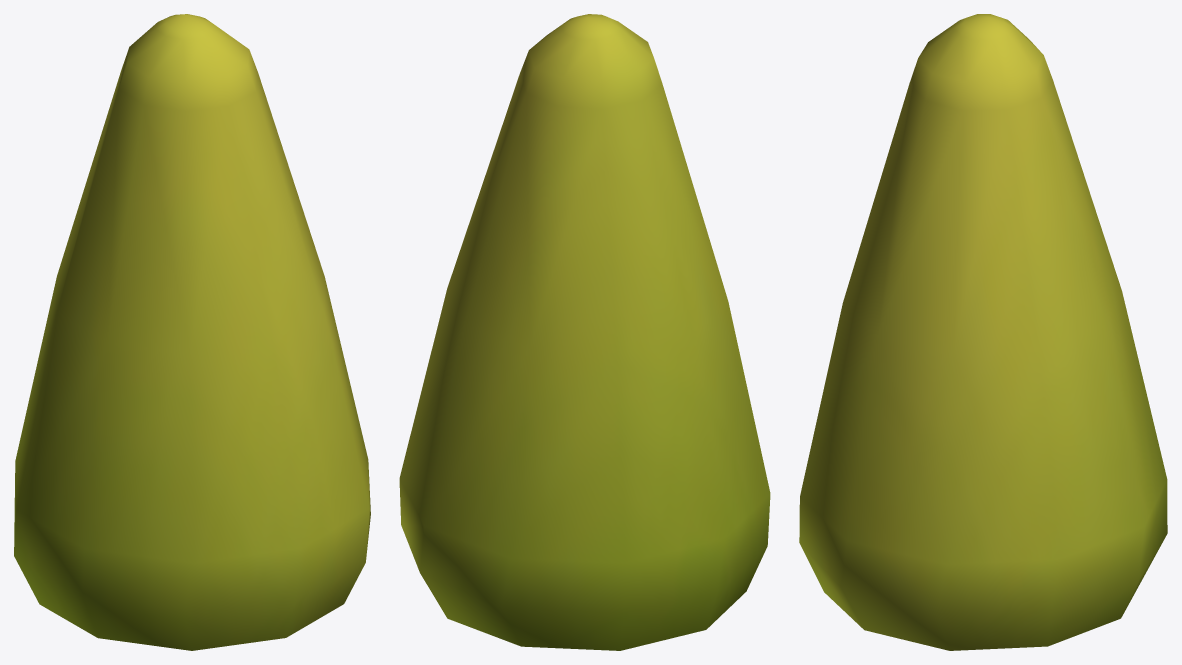
Rendered from SM_Fir_02.fbx.
3 renders of one model, left to right at view 1: azimuth 30°, elevation 25°; view 2: azimuth 150°, elevation 25°; view 3: azimuth 270°, elevation 25°, orthographic.
Parts seen in each view (by area): view 1: SM_Fir_02; view 2: SM_Fir_02; view 3: SM_Fir_02.
Boxes of the visible parts, x1,y1,x2,y2 form: SM_Fir_02: (14,14,370,650); SM_Fir_02: (399,14,770,650); SM_Fir_02: (799,14,1167,650).
Size of the model in its own units: 230 by 396 by 234.
